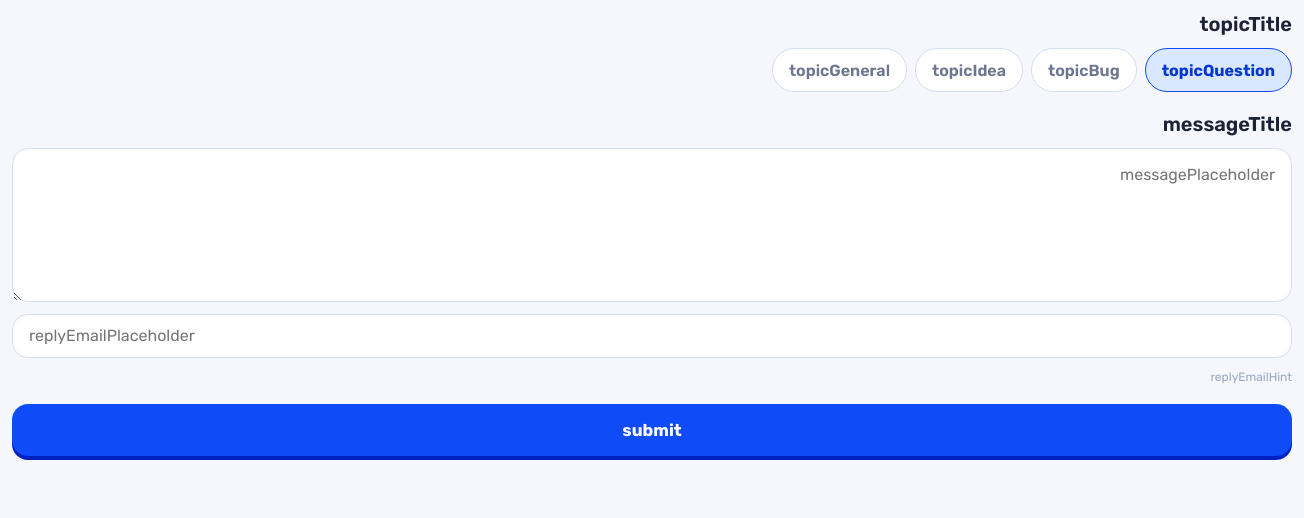
Test: ContactForm › falls back to the generic error when the API error payload is not text
The width and height of the screenshot is (1304, 518).
Type "Need help" into the text box with placeholder "messagePlaceholder" at (652, 225), box [12,148,1292,302]
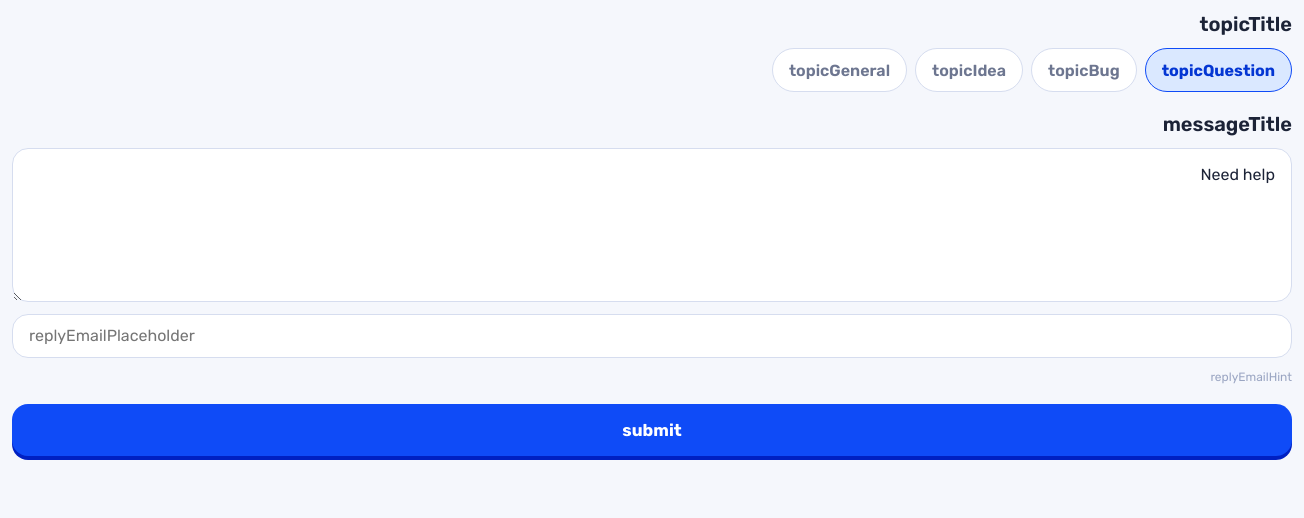
Submit the form named "submit"
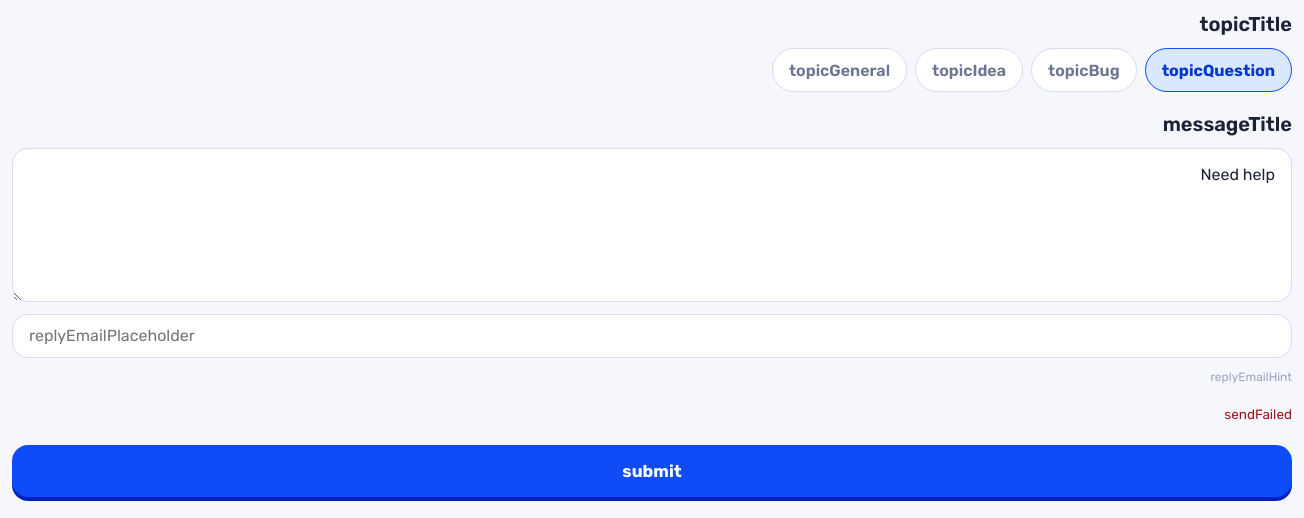
Expected: the message reads "sendFailed", [1224,406,1292,422]
